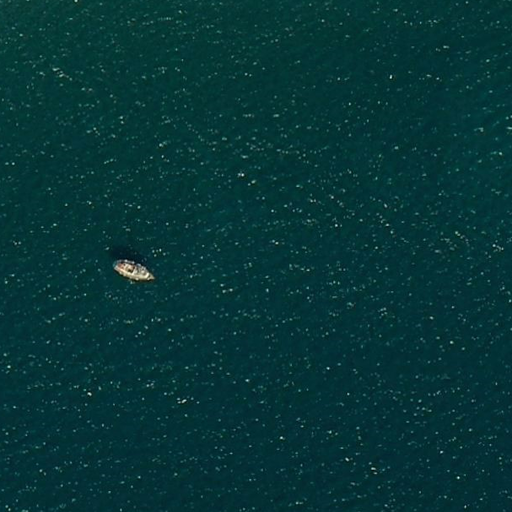ship: (110, 256, 158, 284)
